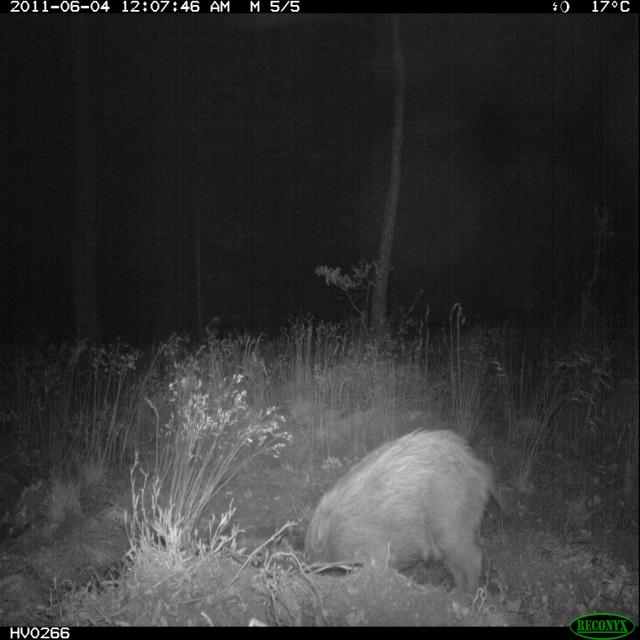boar: (241, 416, 500, 603)
